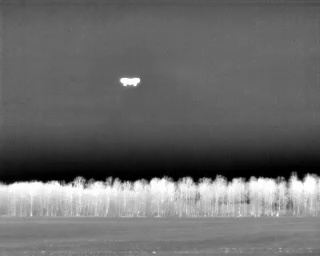DRONE: (115, 72, 144, 92)
